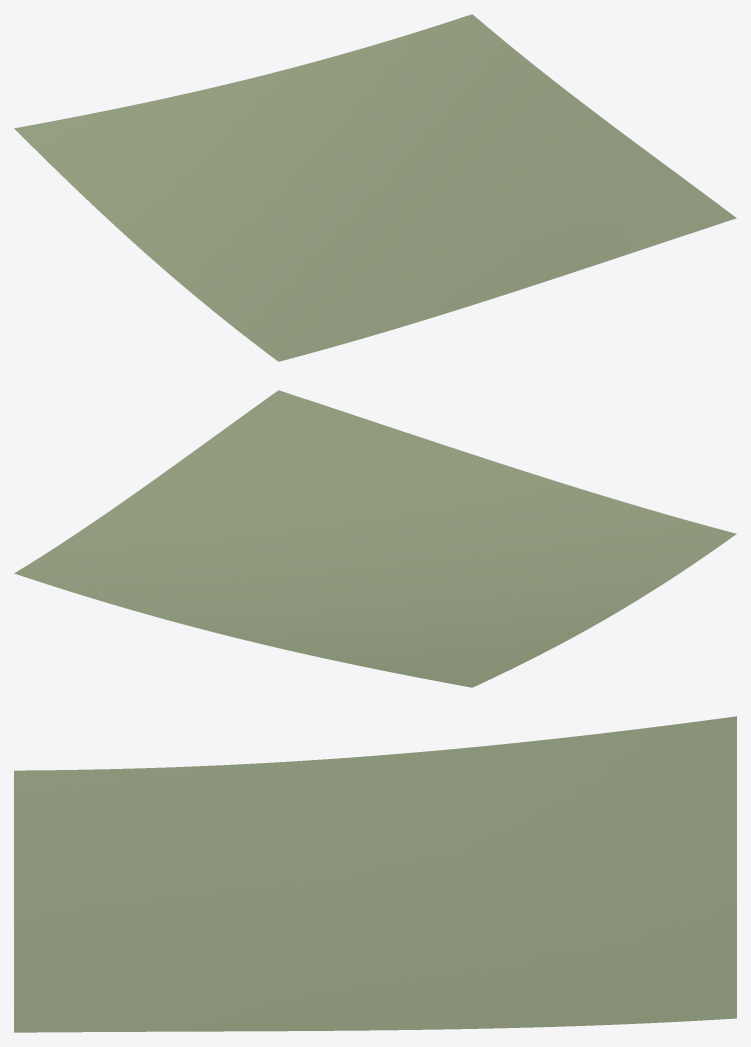
File: alpine-9-13.glb
3 views of the same model, one above another, from view 1: azimuth 30°, elevation 25°; view 2: azimuth 150°, elevation 25°; view 3: azimuth 270°, elevation 25° (orthographic). The views are drawn at different scales.
Visible parts, largest first — view 1: alpine-9-13; view 2: alpine-9-13; view 3: alpine-9-13.
Part boxes in pixels (<box>): alpine-9-13: <box>14,14,736,361</box>; alpine-9-13: <box>14,390,736,687</box>; alpine-9-13: <box>14,716,736,1032</box>.
Size of the model in its own units: 256 by 22.53 by 256.
